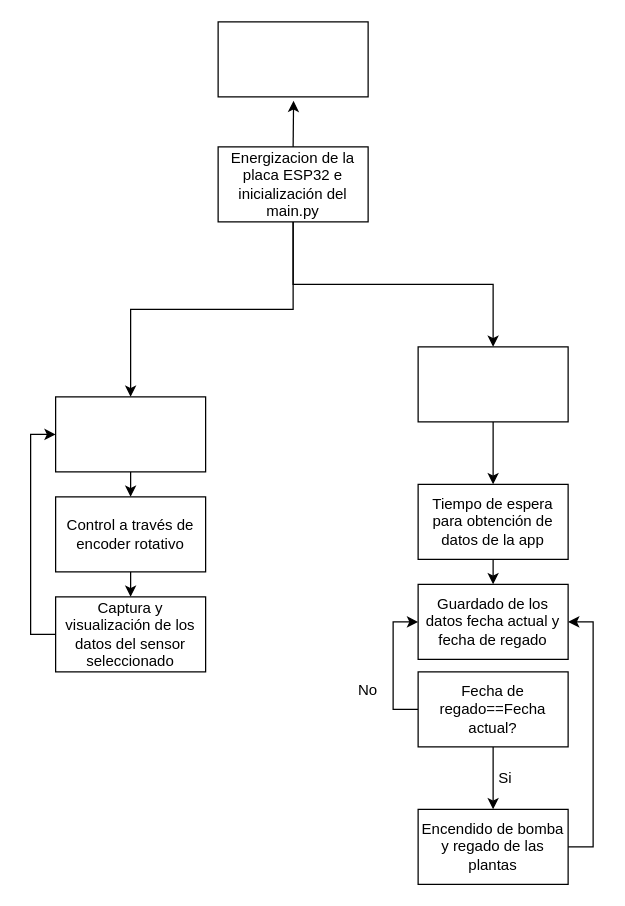
Image size: 625x906. Some labels were removed from this diagram. Here are the shapes that lost their labels. From the top down, the box of each, then its label:
(217, 21, 368, 97): Conexión a corriente directa por medio de un regulador
(417, 346, 568, 422): Creación soket para conexión inalámbrica
(54, 396, 206, 472): Encendido de la pantalla OLED
